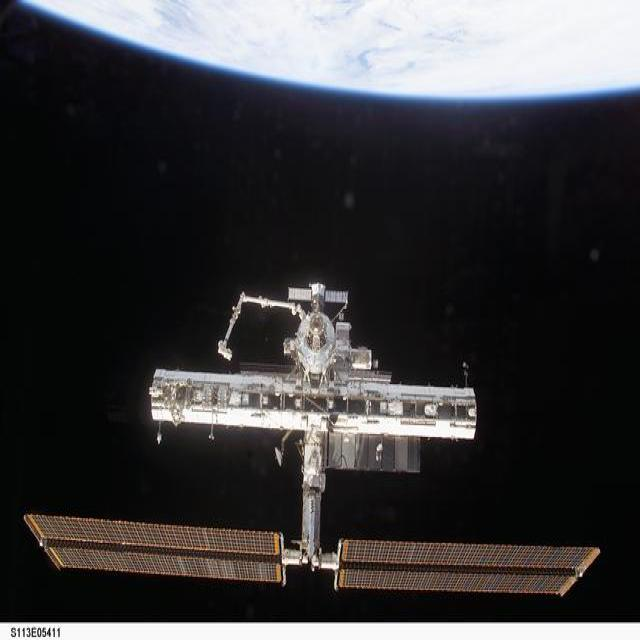satellite: (25, 283, 599, 595)
